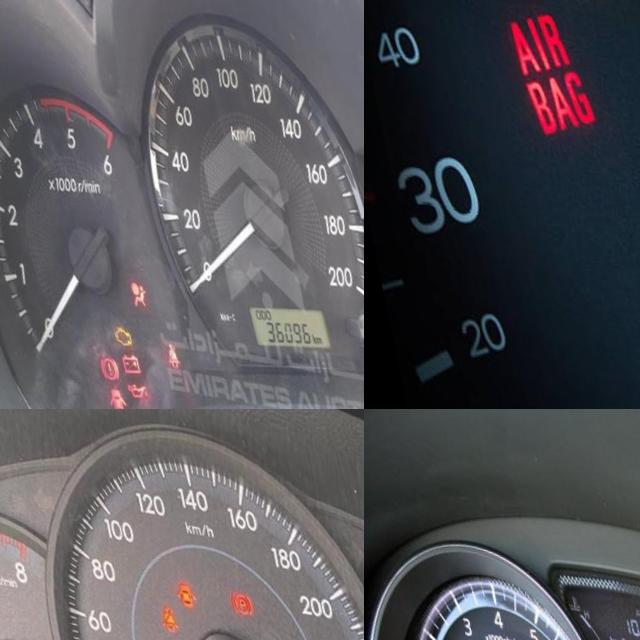Seat Belt: (144, 591, 168, 630), (147, 335, 163, 362)
